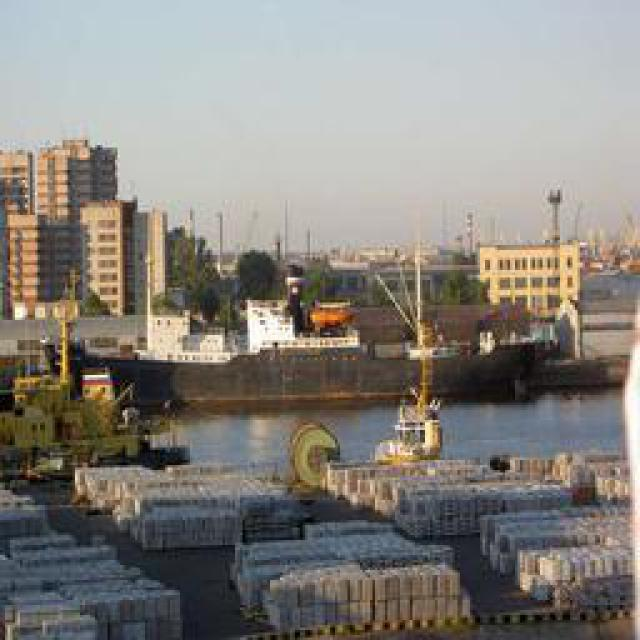Ship: (95, 311, 550, 411)
